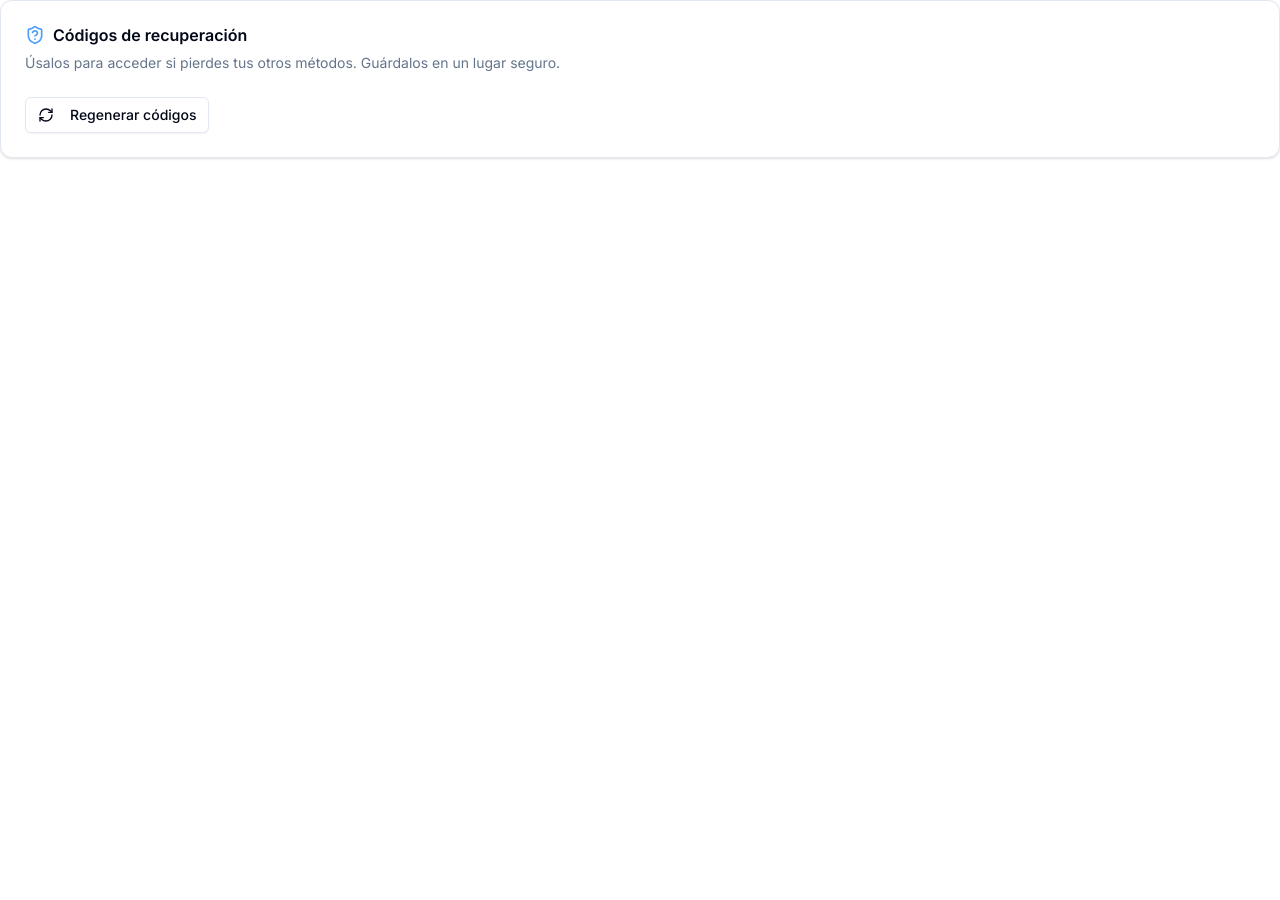
Test case: RecoveryCodes › muestra los códigos una sola vez tras regenerar
The image size is (1280, 900).
Click the button "Regenerar códigos": (117, 115) [25,97,210,133]
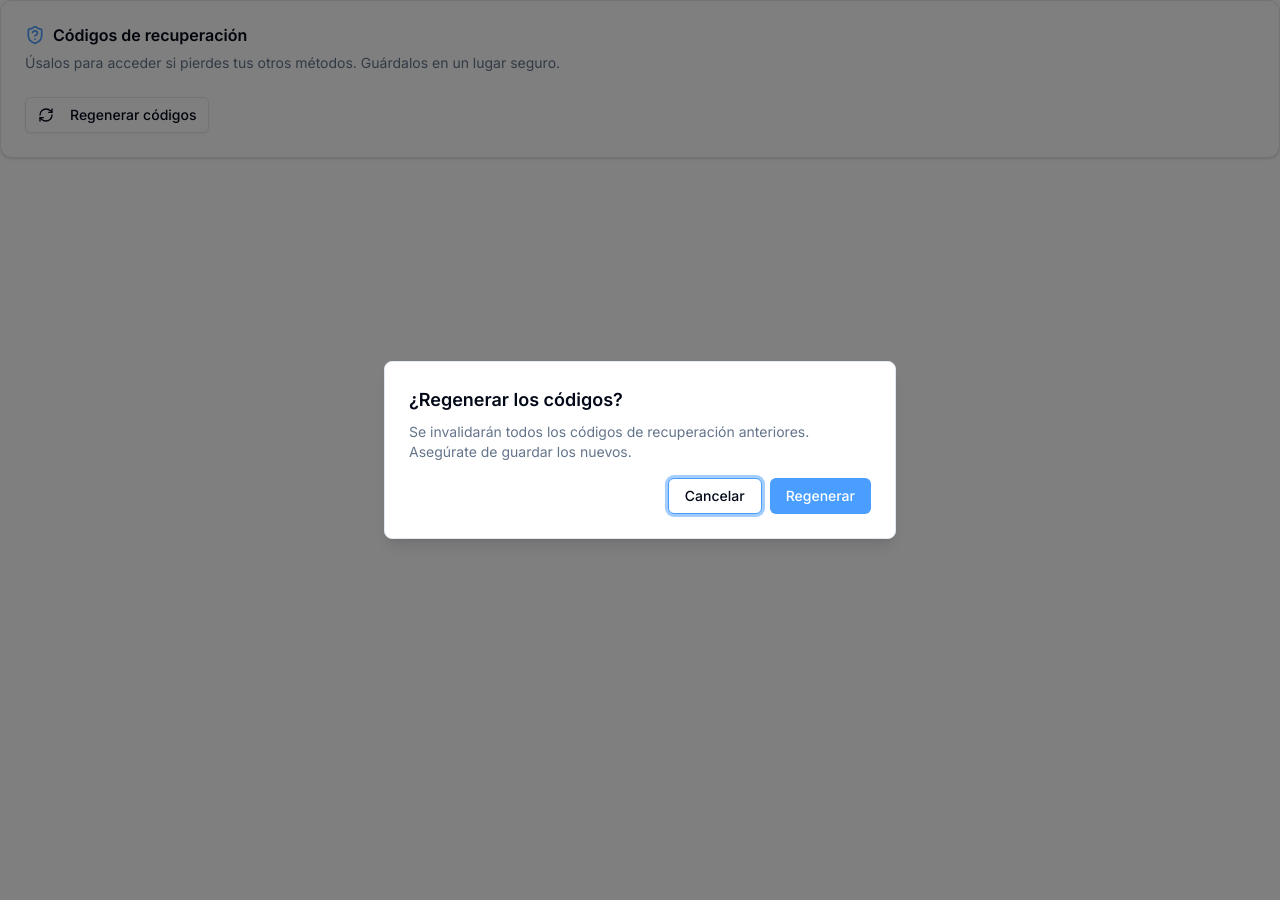
Confirmación en el AlertDialog
Click the button "Regenerar": (820, 496) [770,478,871,514]
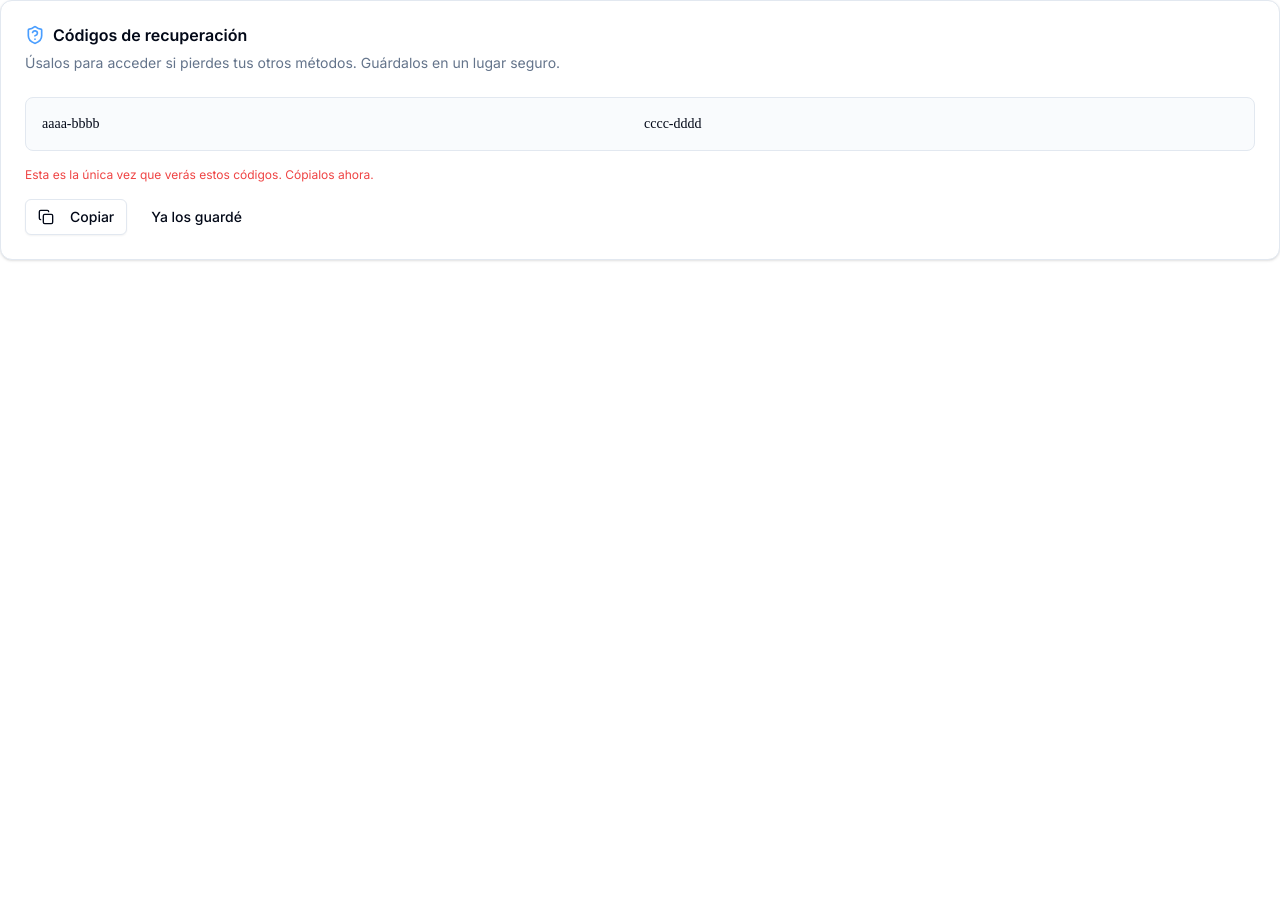
Expected: the text "aaaa-bbbb" is shown, [42,116,100,131]
Expected: the text "cccc-dddd" is shown, [644,116,702,131]
Expected: the text "única vez que verás estos códigos" is shown, [25,167,374,182]
